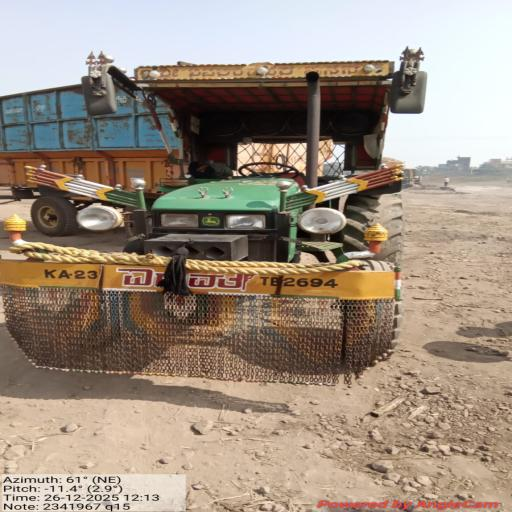number_plate: (38, 265, 350, 296)
